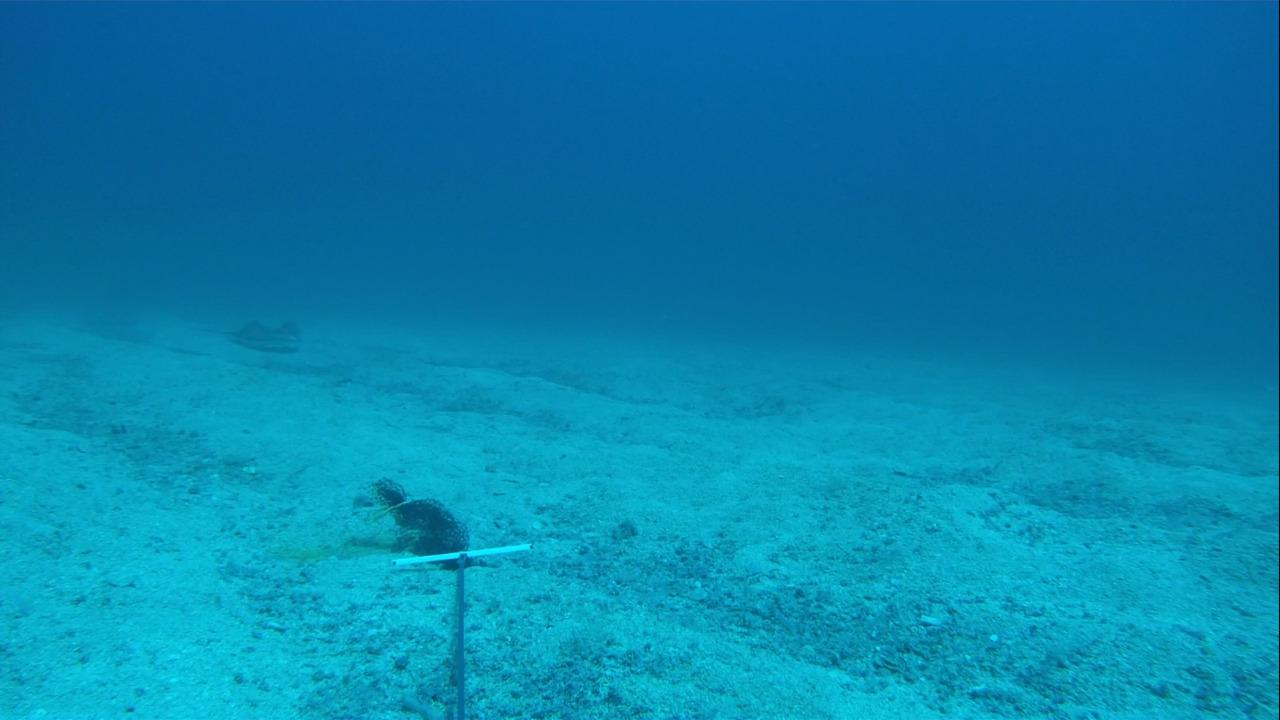myliobatis: (192, 302, 314, 361)
